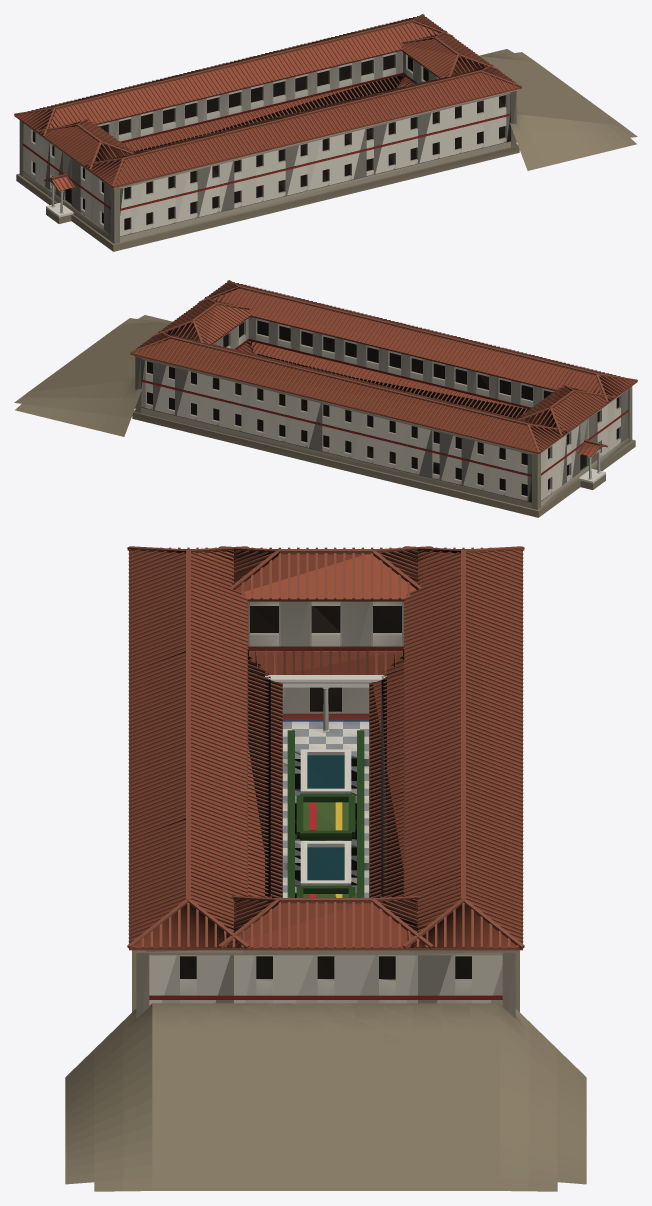
Rendered from rome_atrium_vestae.glb.
3 renders of one model, top to bottom at view 1: azimuth 30°, elevation 25°; view 2: azimuth 150°, elevation 25°; view 3: azimuth 270°, elevation 25°, orthographic. The views are drawn at different scales.
Visible parts, largest first — view 1: rome_atrium_vestae; view 2: rome_atrium_vestae; view 3: rome_atrium_vestae.
Part boxes in pixels (box(x1,y1,x2,y2)): rome_atrium_vestae: box(14, 14, 637, 251); rome_atrium_vestae: box(14, 280, 637, 517); rome_atrium_vestae: box(65, 546, 586, 1191).
Size of the model in its own units: 84.29 by 12.44 by 36.
